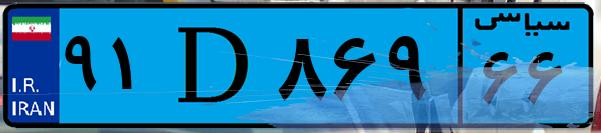1: (110, 28, 158, 98)
6: (330, 28, 385, 110), (475, 38, 525, 113), (525, 38, 570, 115)
8: (270, 28, 330, 110)
9: (385, 28, 445, 110), (57, 26, 110, 100)
D: (158, 12, 270, 120)
